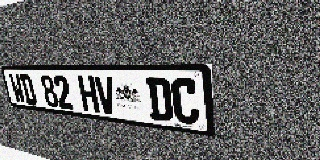2: (53, 75, 73, 110)
8: (39, 75, 59, 108)
C: (170, 78, 200, 125)
D: (146, 77, 173, 122), (19, 74, 38, 105)
H: (77, 76, 100, 113)
V: (94, 76, 118, 115)
W: (8, 74, 26, 104)
